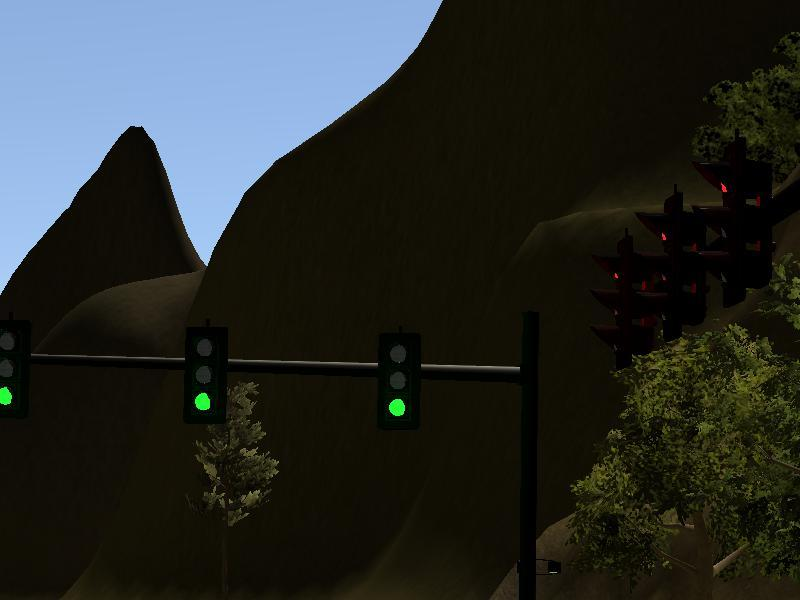Green: (182, 325, 227, 424), (377, 333, 421, 431), (1, 318, 31, 422)
